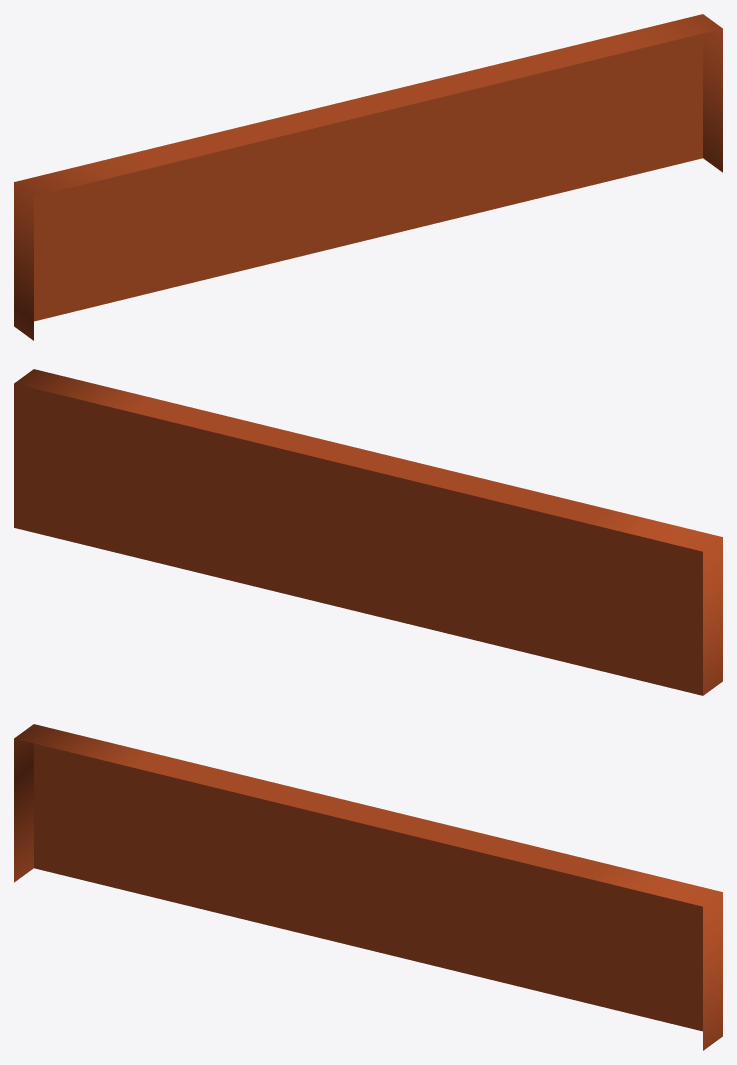
File: C_Straight.fbx
3 renders of one model, top to bottom at view 1: azimuth 30°, elevation 25°; view 2: azimuth 150°, elevation 25°; view 3: azimuth 330°, elevation 25°, orthographic.
Parts seen in each view (by area): view 1: Cube.001; view 2: Cube.001; view 3: Cube.001.
Boxes of the visible parts, x1,y1,x2,y2 form: Cube.001: (14,14,722,340); Cube.001: (14,369,722,695); Cube.001: (14,724,722,1050).
Bounding box in the file's own units: 200 × 40 × 10.
